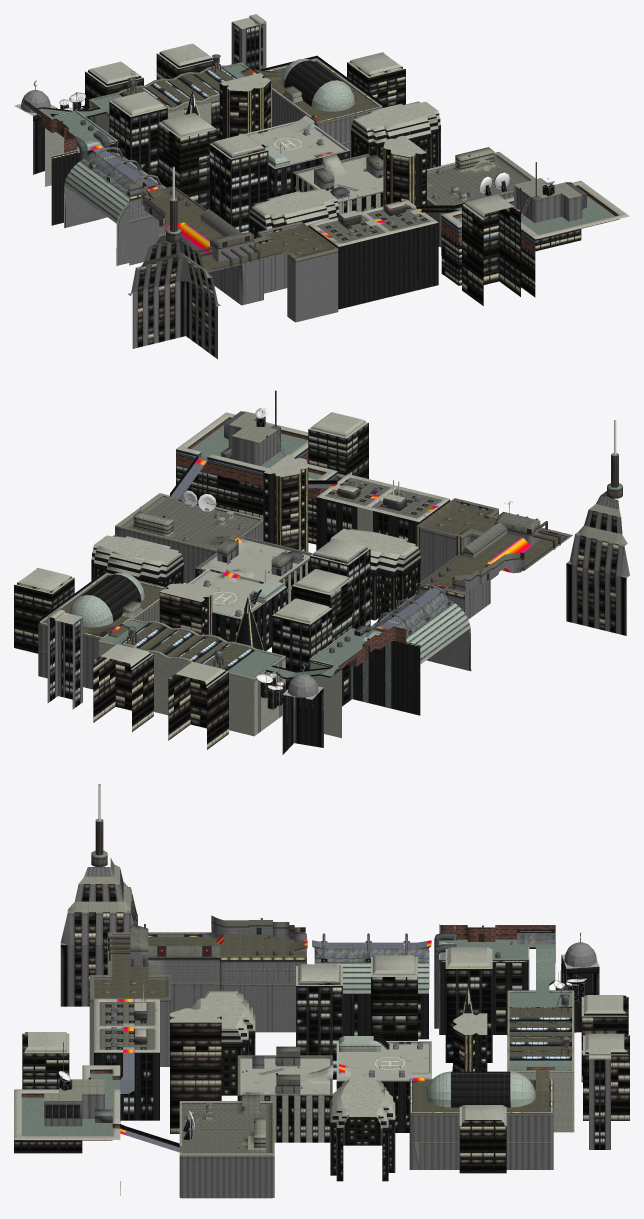
3 renders of one model, top to bottom at view 1: azimuth 30°, elevation 25°; view 2: azimuth 150°, elevation 25°; view 3: azimuth 270°, elevation 25°, orthographic. The views are drawn at different scales.
Visible parts, largest first — view 1: roof.w.g, roof.w.a, roof.w.f, roof.w.c, roof.w.d, roof.w.b, roof.w.e, roof.w.h, roof.w.i, boostpad; view 2: roof.w.g, roof.w.a, roof.w.f, roof.w.c, roof.w.d, roof.w.b, roof.w.e, roof.w.h, roof.w.i, boostpad; view 3: roof.w.g, roof.w.a, roof.w.c, roof.w.f, roof.w.b, roof.w.d, roof.w.e, roof.w.h, roof.w.i.
Boxes of the visible parts, x1,y1,x2,y2 form: roof.w.g: [38, 22, 582, 359]; roof.w.a: [14, 14, 629, 267]; roof.w.f: [109, 24, 581, 305]; roof.w.c: [20, 60, 581, 277]; roof.w.d: [45, 52, 466, 240]; roof.w.b: [37, 61, 586, 269]; roof.w.e: [24, 54, 619, 254]; roof.w.h: [33, 92, 440, 337]; roof.w.i: [80, 103, 540, 254]; boostpad: [91, 70, 421, 255]; roof.w.g: [38, 418, 629, 752]; roof.w.a: [14, 390, 622, 709]; roof.w.f: [14, 423, 408, 707]; roof.w.c: [59, 411, 627, 697]; roof.w.d: [17, 455, 470, 738]; roof.w.b: [44, 411, 563, 679]; roof.w.e: [127, 407, 616, 699]; roof.w.h: [91, 541, 626, 754]; roof.w.i: [222, 391, 489, 670]; boostpad: [112, 459, 531, 631]; roof.w.g: [44, 858, 629, 1198]; roof.w.a: [14, 784, 629, 1139]; roof.w.c: [44, 864, 596, 1155]; roof.w.f: [14, 962, 605, 1195]; roof.w.b: [44, 915, 571, 1152]; roof.w.d: [105, 924, 574, 1147]; roof.w.e: [21, 784, 586, 1148]; roof.w.h: [60, 945, 599, 1181]; roof.w.i: [63, 925, 555, 1139].
Size of the model in its own units: 33999 by 13778 by 37279.
12 materials, 12 textured.
